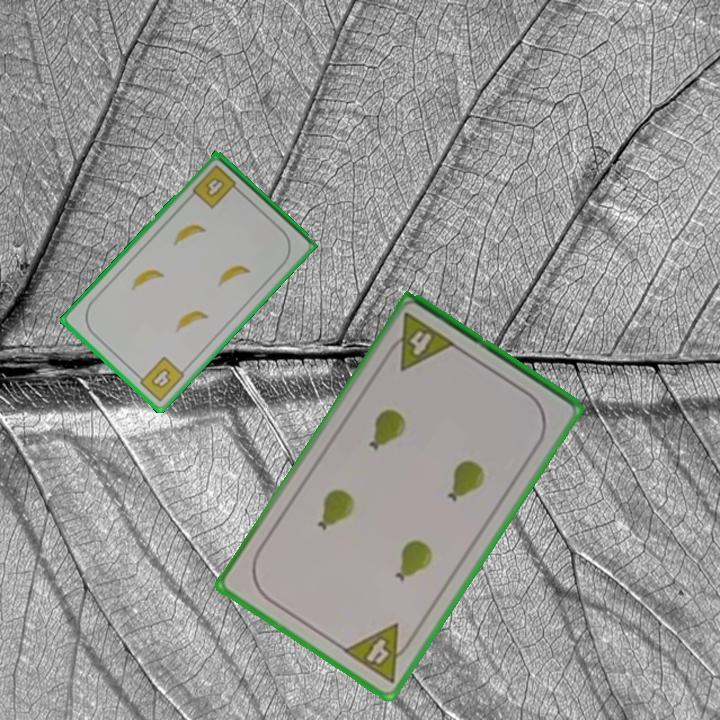4b: (132, 353, 187, 405), (189, 161, 244, 212)
4p: (339, 620, 419, 686), (381, 309, 459, 374)
